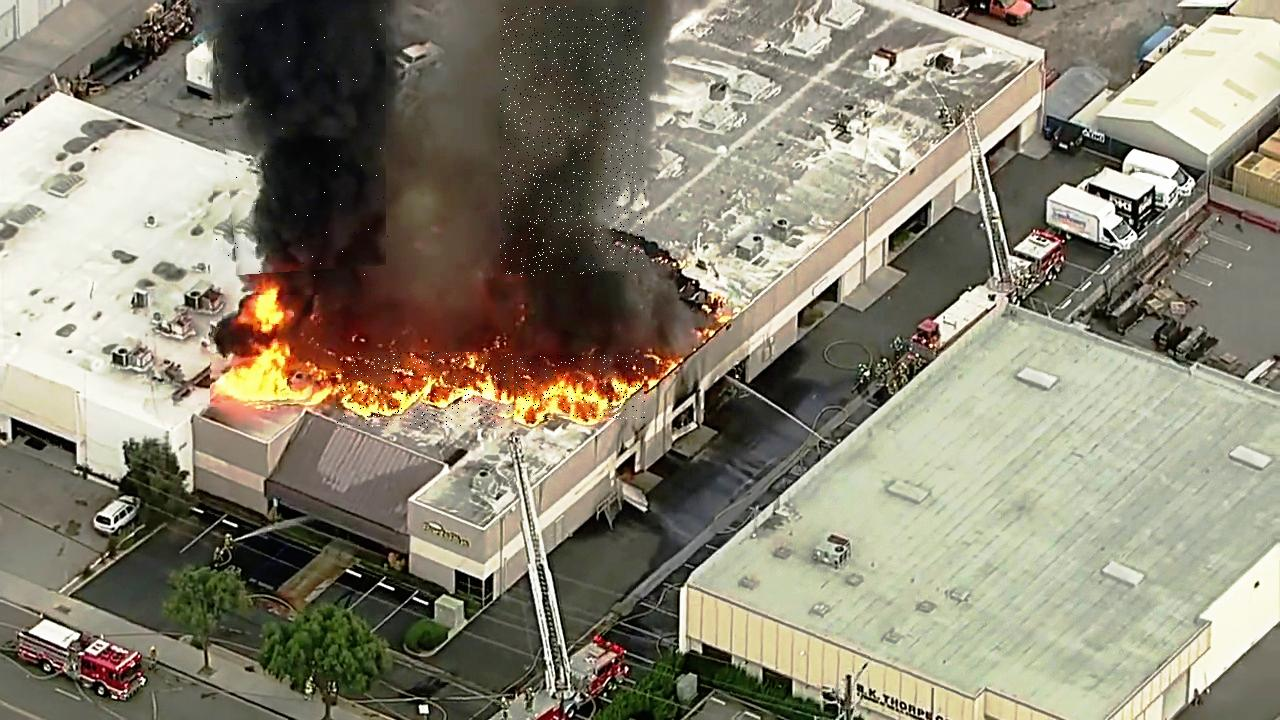fire: (337, 352, 517, 428), (210, 295, 322, 408), (517, 355, 647, 419)
smoke: (214, 4, 389, 278), (500, 7, 645, 278)
